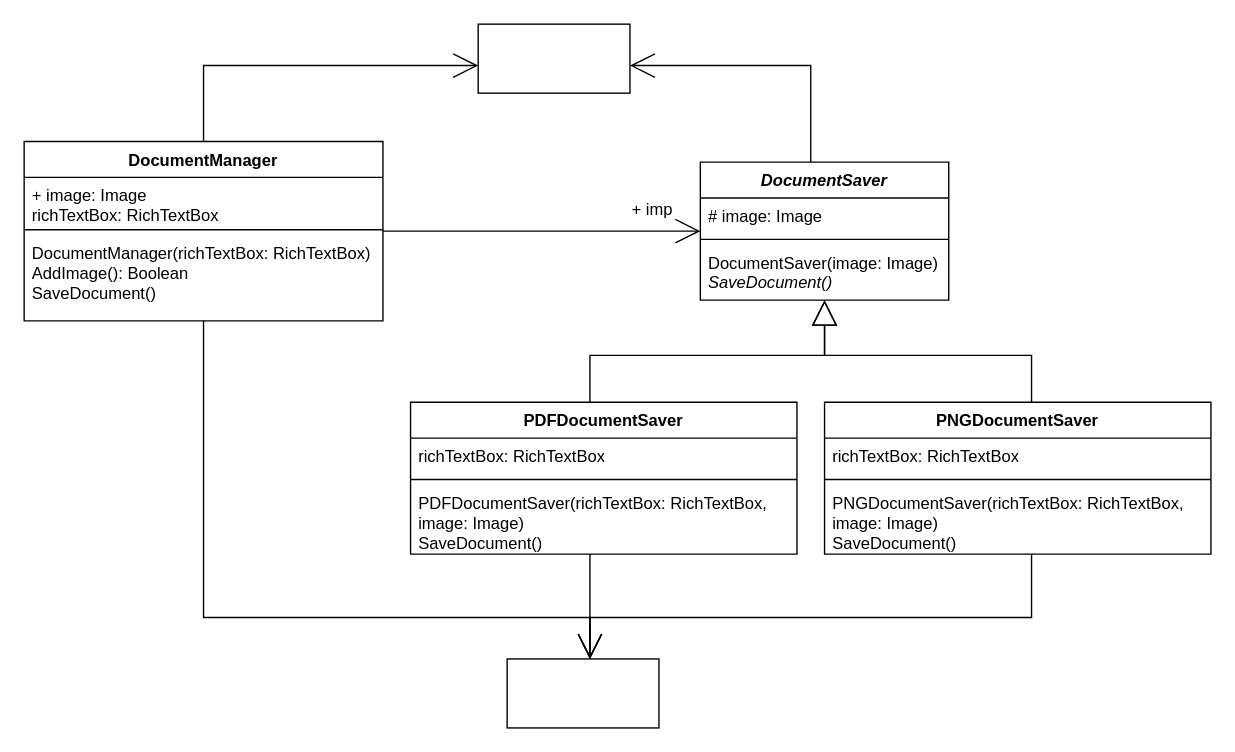
This 1235x752 diagram has some shape labels left out. The box of each missing label's shape, as (x1, y1, x2, y2) in pixels:
Image: (477, 23, 630, 93)
RichTextBox: (506, 658, 659, 728)
